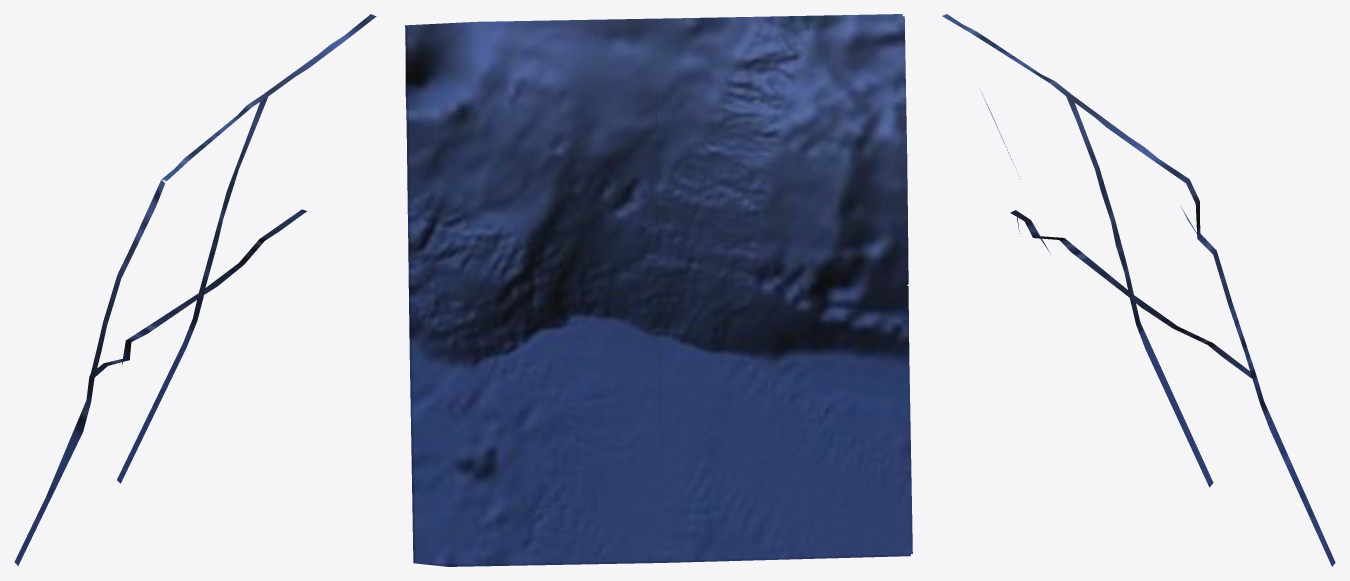
3 renders of one model, left to right at view 1: azimuth 30°, elevation 25°; view 2: azimuth 150°, elevation 25°; view 3: azimuth 270°, elevation 25°, orthographic. The views are drawn at different scales.
Bounding box in the file's own units: 37960 × 37407 × 30982.
Materials: 1 (1 with a texture image).
